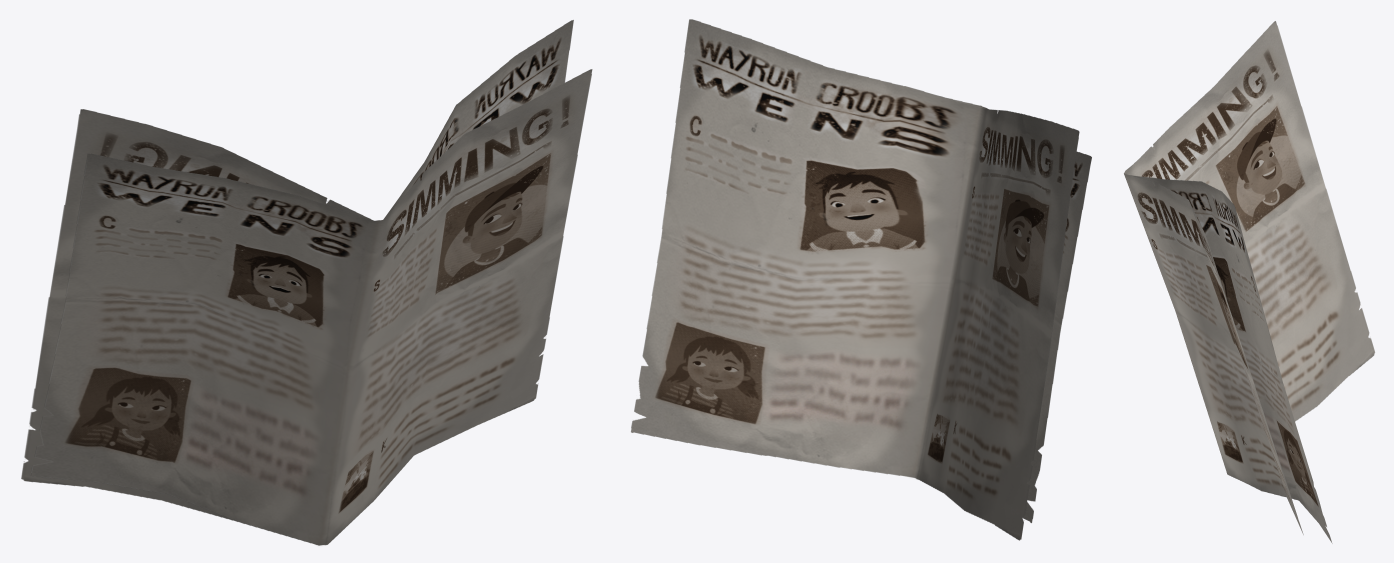
The model's file is newspaper.glb.
3 views of the same model, side by side, from view 1: azimuth 30°, elevation 25°; view 2: azimuth 150°, elevation 25°; view 3: azimuth 270°, elevation 25° (orthographic). The views are drawn at different scales.
Visible parts, largest first — view 1: Cube; view 2: Cube; view 3: Cube.
Boxes of the visible parts, box(x1,y1,x2,y2) form: Cube: box(21, 20, 592, 545); Cube: box(631, 19, 1091, 540); Cube: box(1124, 21, 1374, 543).
Size of the model in its own units: 2.52 by 2.36 by 1.46.
1 material, 1 textured.
